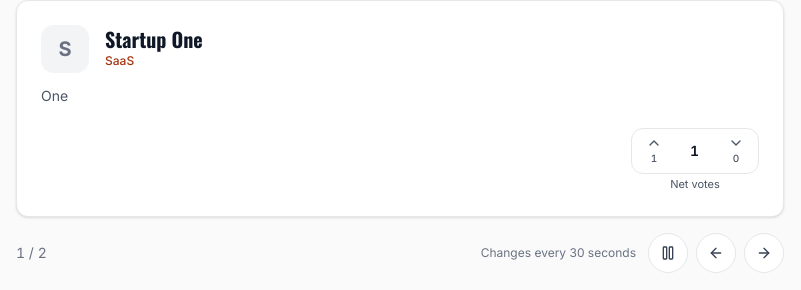
Test case: featured startup carousel › pauses automatic rotation while hovered and resumes after leaving
Hover over the element named "Featured startup carousel" at x=400, y=136, box [16,0,784,272]
Wait 30000 ms
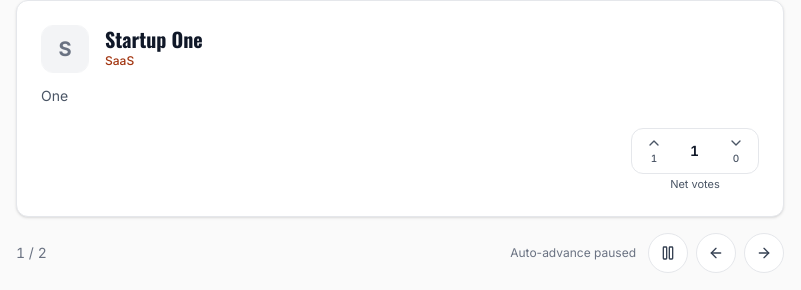
Expected: the text "Startup One" is shown, [105,25,203,53]
Move the pointer off the element named "Featured startup carousel"
Wait 30000 ms
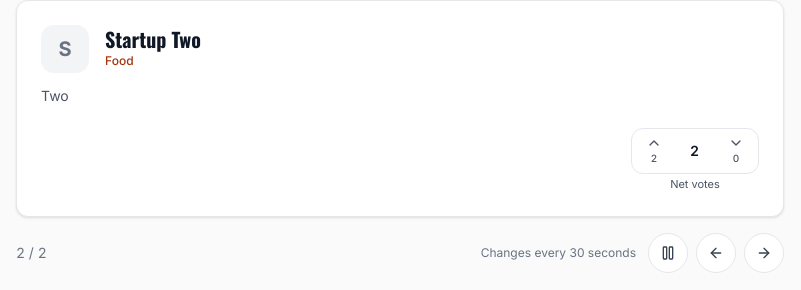
Result: the text "Startup Two" is shown at [105,25,201,53]
